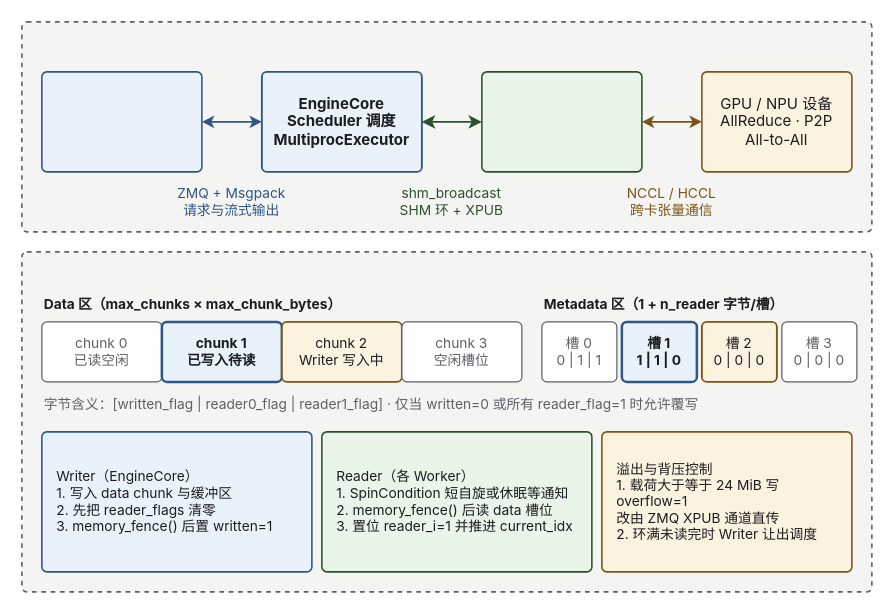
The diagram is 895 pixels wide and 615 high, and some of its shapes have lost their labels. The box of each missing label's shape, as (x1, y1, x2, y2) in pixels:
API Server HTTP · 分词 DPLBAsyncMPClient: (40, 70, 202, 172)
ShmRingBuffer 无锁共享内存环布局与原子状态协议（max_chunks = 4，n_reader = 2）: (20, 250, 872, 592)
Worker 进程组 ModelRunner worker_busy_loop: (480, 70, 642, 172)
三层进程通信栈（由主机跨进程逐级下沉到设备集合通信）: (20, 20, 872, 232)
